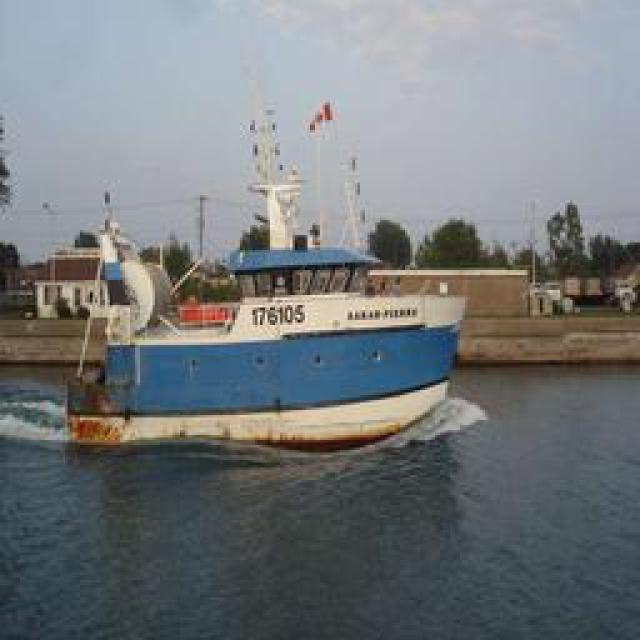Ship: (56, 85, 451, 458)
